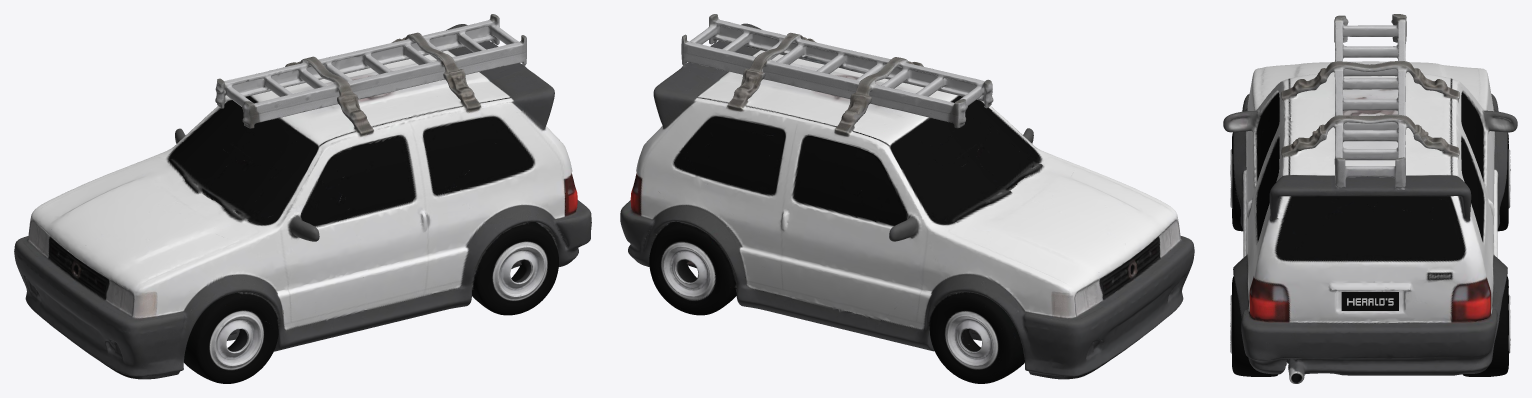
The model's file is cars_willforce_firma.glb.
3 renders of one model, left to right at view 1: azimuth 30°, elevation 25°; view 2: azimuth 150°, elevation 25°; view 3: azimuth 270°, elevation 25°, orthographic. The views are drawn at different scales.
Parts seen in each view (by area): view 1: Mesh_0; view 2: Mesh_0; view 3: Mesh_0, Plane, Herald's.
Boxes of the visible parts, x1=… form: Mesh_0: x1=14, y1=14, x2=591, y2=383; Mesh_0: x1=620, y1=14, x2=1194, y2=383; Mesh_0: x1=1223, y1=14, x2=1517, y2=383; Plane: x1=1341, y1=292, x2=1398, y2=310; Herald's: x1=1347, y1=298, x2=1393, y2=305.
Bounding box in the file's own units: 1.9 × 0.866 × 0.9508.
2 materials, 1 textured.
